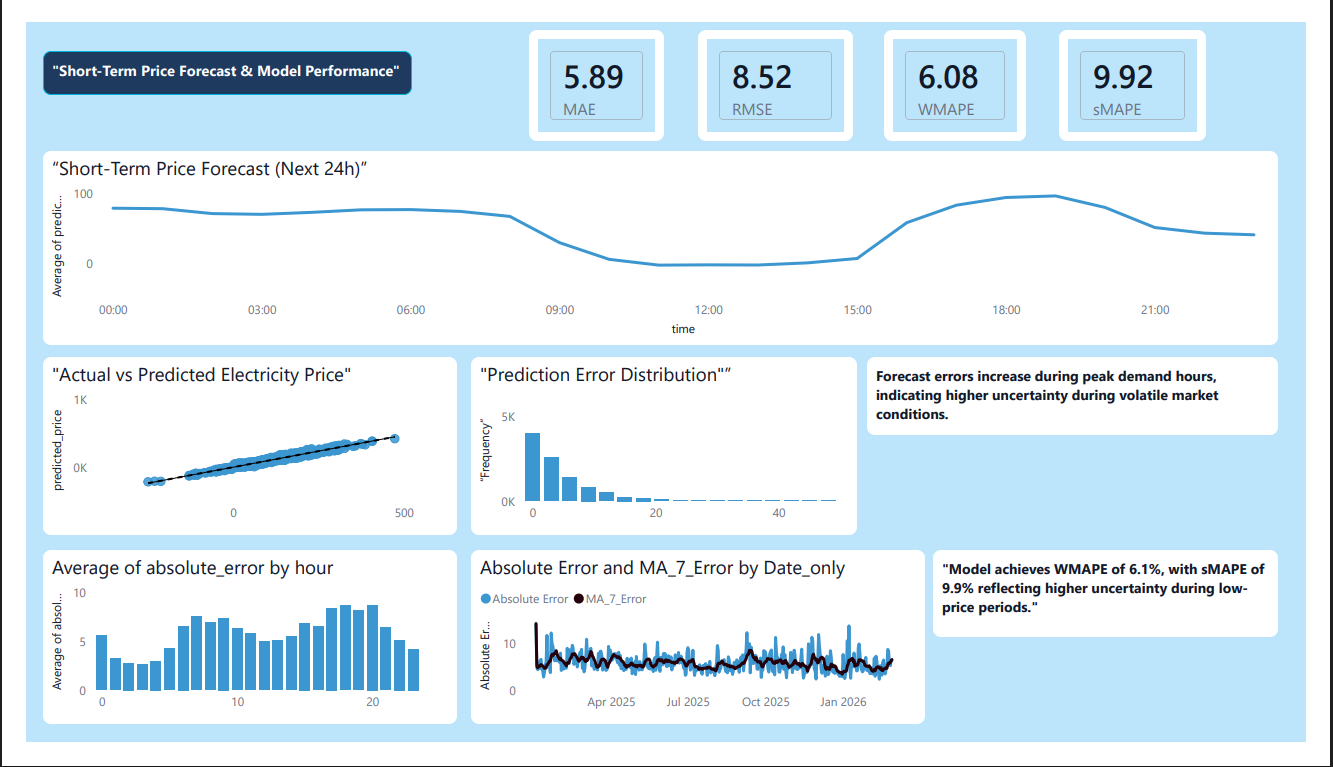

Layout of this report page (visuals, bound fields, positions):
{"tool":"powerbi","page":{"name":"Short-Term Price Forecast & Model Performance","canvas":[1280,720],"ordinal":2},"visuals":[{"type":"scatterChart","title":"\"Actual vs Predicted Electricity Price\"","fields":{"X":["powerbi_final_dataset.price"],"Y":["powerbi_final_dataset.predicted_price"]},"box":[17.4,334.9,414,177.9],"z":0},{"type":"cardVisual","fields":{"Data":["_measures.MAE"]},"box":[503.5,8.1,134.9,110.5],"z":1000},{"type":"cardVisual","fields":{"Data":["_measures.RMSE"]},"box":[672.1,8.1,154.7,110.5],"z":2000},{"type":"cardVisual","fields":{"Data":["_measures.MAPE"]},"box":[858.1,8.1,141.9,110.5],"z":3000},{"type":"clusteredColumnChart","title":"\"Prediction Error Distribution\"”","fields":{"Y":["CountNonNull(powerbi_final_dataset.absolute_error)"],"Category":["powerbi_final_dataset.absolute_error (bins) 2"]},"box":[445.4,334.9,386,177.9],"z":4000},{"type":"lineChart","fields":{"Category":["powerbi_final_dataset.Date_only"],"Y":["_measures.Absolute Error","_measures.MA_7_Error"]},"box":[445.4,527.9,453.5,174.4],"z":5000},{"type":"clusteredColumnChart","fields":{"Category":["powerbi_final_dataset.hour"],"Y":["Avg(powerbi_final_dataset.absolute_error)"]},"box":[17.4,527.9,414,174.4],"z":6000},{"type":"lineChart","title":"“Short-Term Price Forecast (Next 24h)”","fields":{"Y":["Avg(powerbi_final_dataset.predicted_price)"],"Category":["powerbi_final_dataset.time"]},"box":[17.4,129.1,1234.9,194.2],"z":7000},{"type":"textbox","box":[840.7,334.9,411.6,77.9],"z":8000},{"type":"textbox","box":[907,527.9,345.3,87.2],"z":9000},{"type":"cardVisual","fields":{"Data":["_measures.sMAPE"]},"box":[1032.6,8.1,147.7,110.5],"z":10000},{"type":"textbox","box":[17.4,29.1,368.6,44.2],"z":10001}]}

Visuals, with their boxes in screenshot pixels (x1, y1, x2, y2), scaled from the page's 1280x720 canvas onto the 1333x767 screenshot:
""Actual vs Predicted Electricity Price"" scatterChart: <bbox>18, 357, 449, 546</bbox>
cardVisual - _measures.MAE: <bbox>524, 9, 665, 126</bbox>
cardVisual - _measures.RMSE: <bbox>700, 9, 861, 126</bbox>
cardVisual - _measures.MAPE: <bbox>894, 9, 1041, 126</bbox>
""Prediction Error Distribution"”" clusteredColumnChart: <bbox>464, 357, 866, 546</bbox>
lineChart - powerbi_final_dataset.Date_only x _measures.Absolute Error: <bbox>464, 562, 936, 748</bbox>
clusteredColumnChart - powerbi_final_dataset.hour x Avg(powerbi_final_dataset.absolute_error): <bbox>18, 562, 449, 748</bbox>
"“Short-Term Price Forecast (Next 24h)”" lineChart: <bbox>18, 138, 1304, 344</bbox>
textbox: <bbox>876, 357, 1304, 440</bbox>
textbox: <bbox>945, 562, 1304, 655</bbox>
cardVisual - _measures.sMAPE: <bbox>1075, 9, 1229, 126</bbox>
textbox: <bbox>18, 31, 402, 78</bbox>
